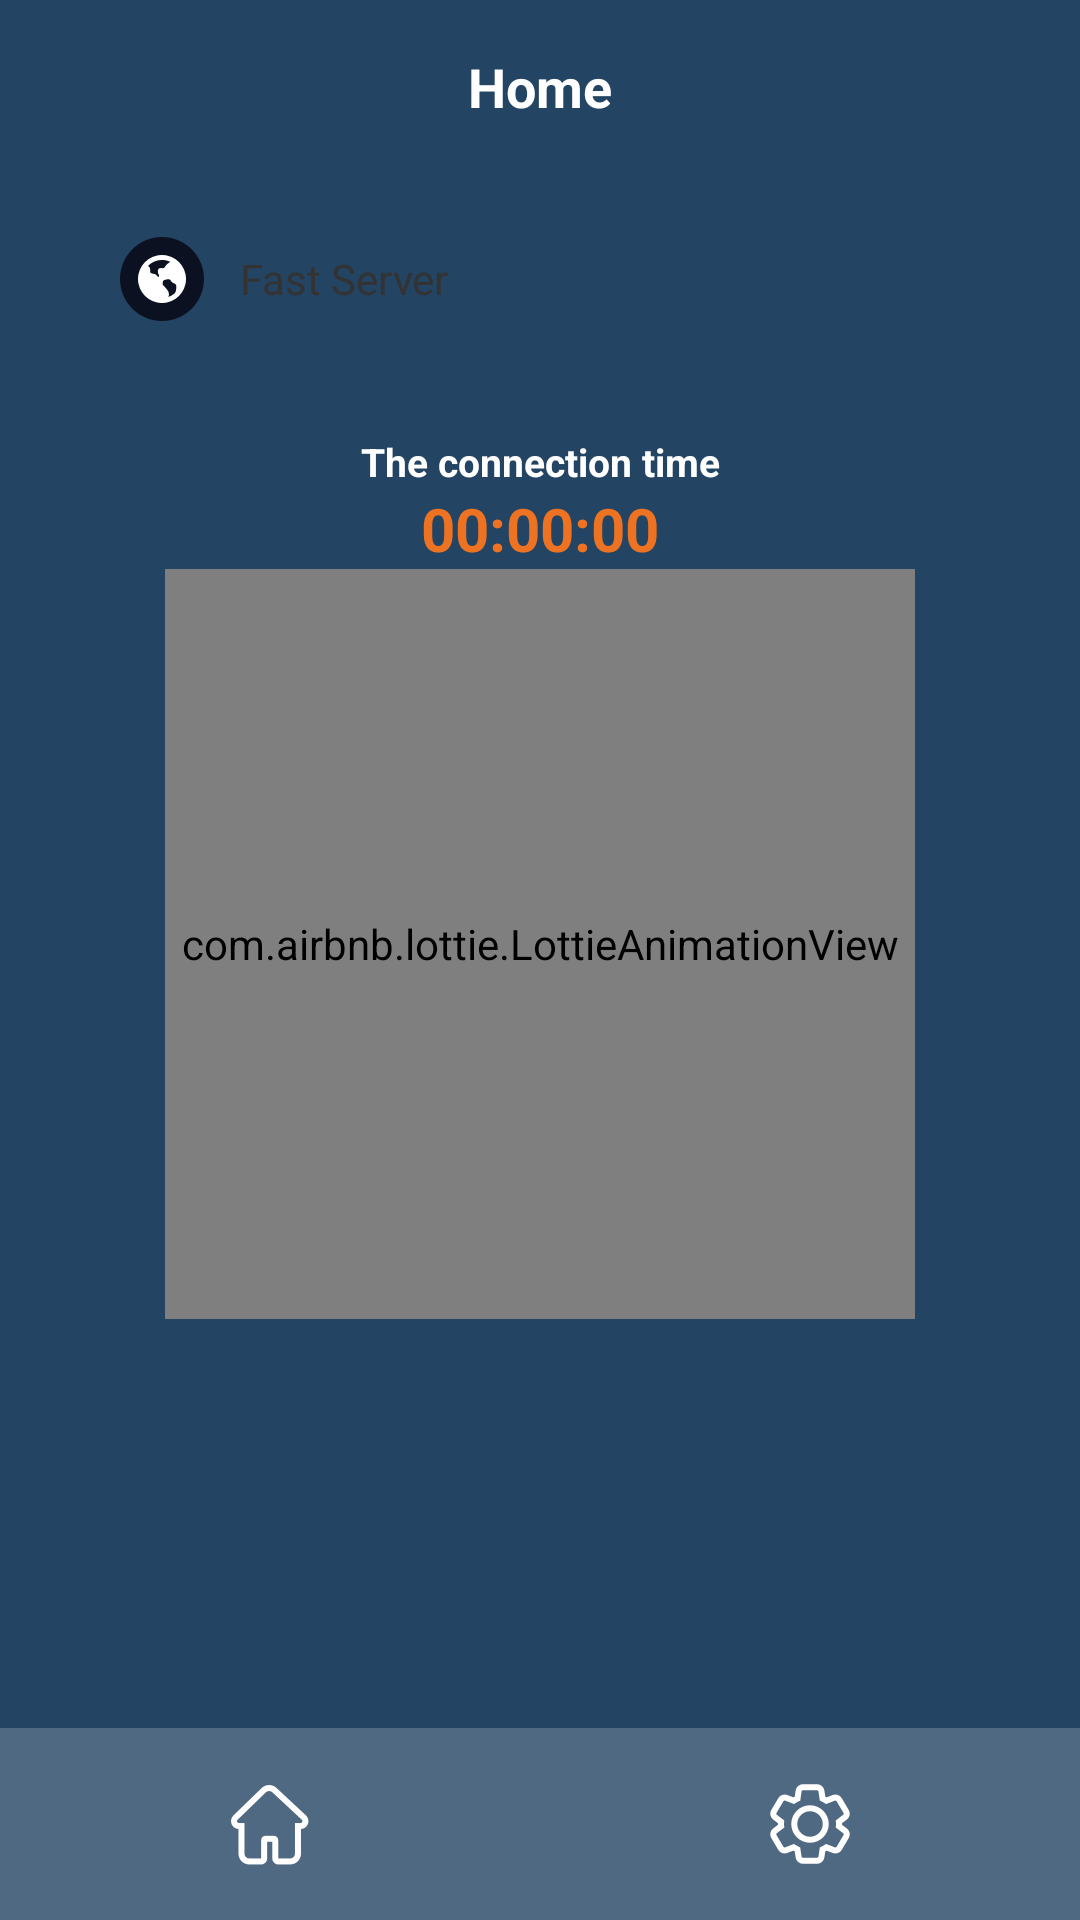

Icon click points for this 1080×1920 phone screenshot, format (x=x, y=y):
set: (x=810, y=1824)
